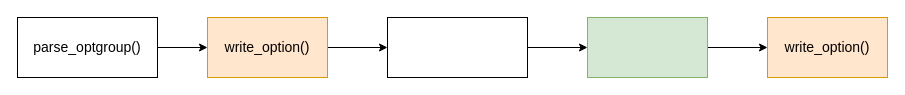
This 905x95 diagram has some shape labels left out. The shapes that lost their labels are listed below. From the top down, each one's box as (x1, y1, x2, y2) in pixels, then its label:
(386, 16, 528, 78): opt_video_codec()
(586, 16, 708, 78): parse_option()
